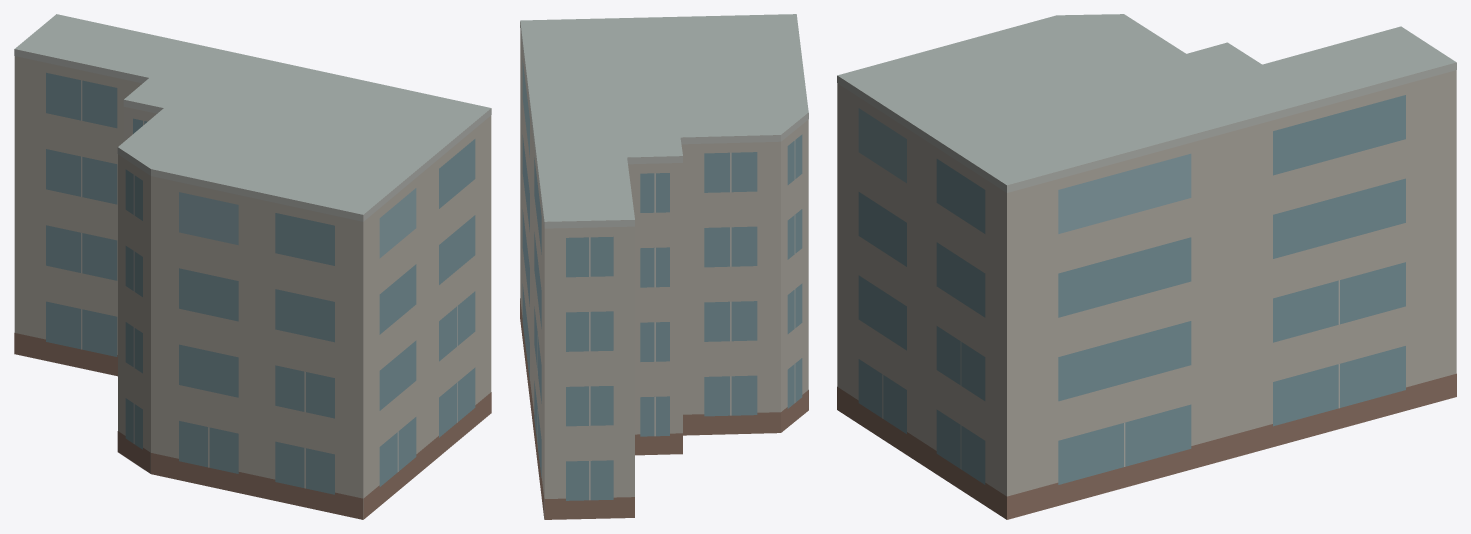
File: survey-upis-32966997.glb
The picture shows the model from 3 angles, left to right: view 1: azimuth 30°, elevation 25°; view 2: azimuth 150°, elevation 25°; view 3: azimuth 270°, elevation 25°; orthographic projection. The views are drawn at different scales.
Parts seen in each view (by area): view 1: survey-upis-32966997.tmp; view 2: survey-upis-32966997.tmp; view 3: survey-upis-32966997.tmp.
Part boxes in pixels (x1,y1,x2,y2): survey-upis-32966997.tmp: [14, 14, 491, 519]; survey-upis-32966997.tmp: [520, 14, 808, 519]; survey-upis-32966997.tmp: [837, 14, 1456, 519].
Size of the model in its own units: 11.68 by 10.62 by 17.85.
